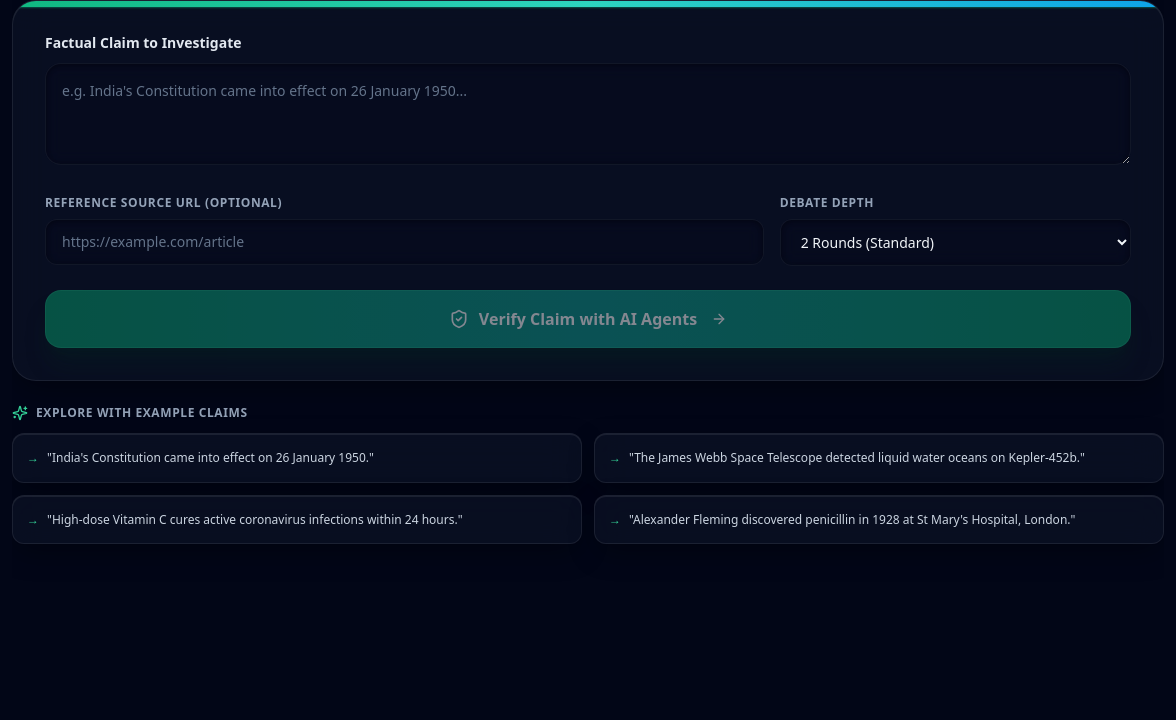
Test: ClaimForm Component Tests › should populate claim when an example is clicked
The width and height of the screenshot is (1176, 720).
Click the text "\"India's Constitution came into effect on 26 January 1950.\"": (210, 458) 47,448 -> 374,468
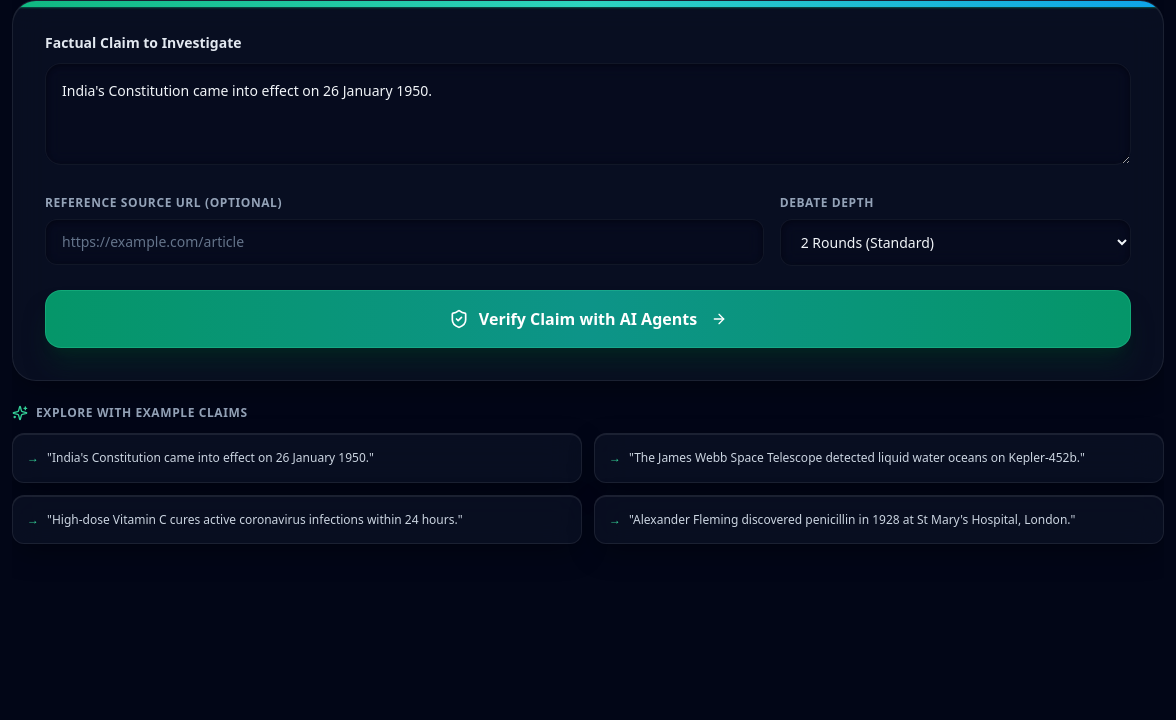
Expected: the text box with placeholder "e.g. India's Constitution" holds "India's Constitution came into effect on 26 January 1950.", 45,63 -> 1131,165
